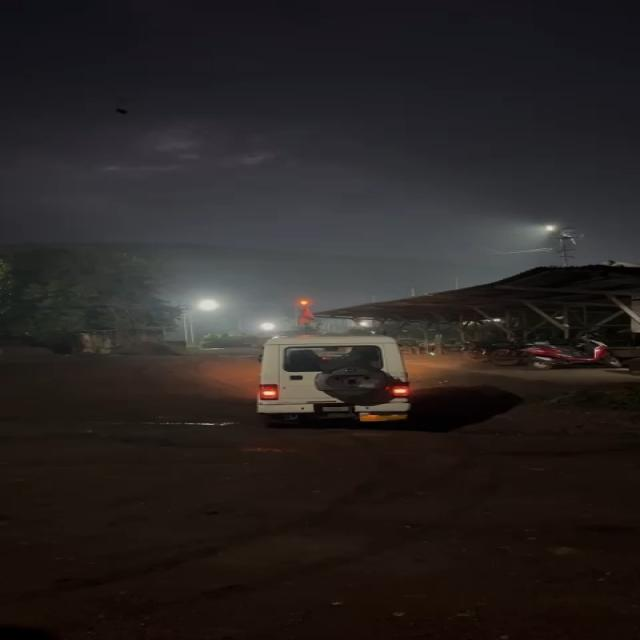light_vehicle: (249, 337, 417, 419)
